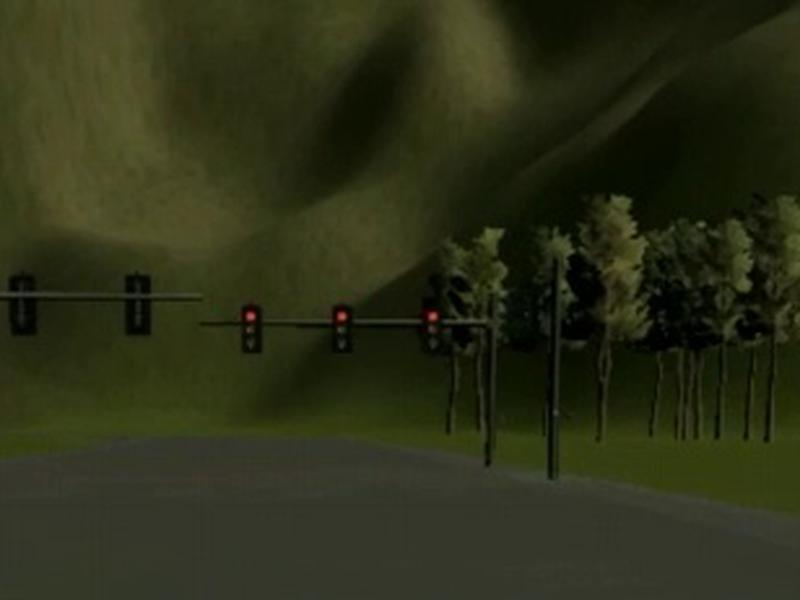Red: (239, 301, 264, 354), (331, 303, 354, 354), (420, 304, 442, 355)
